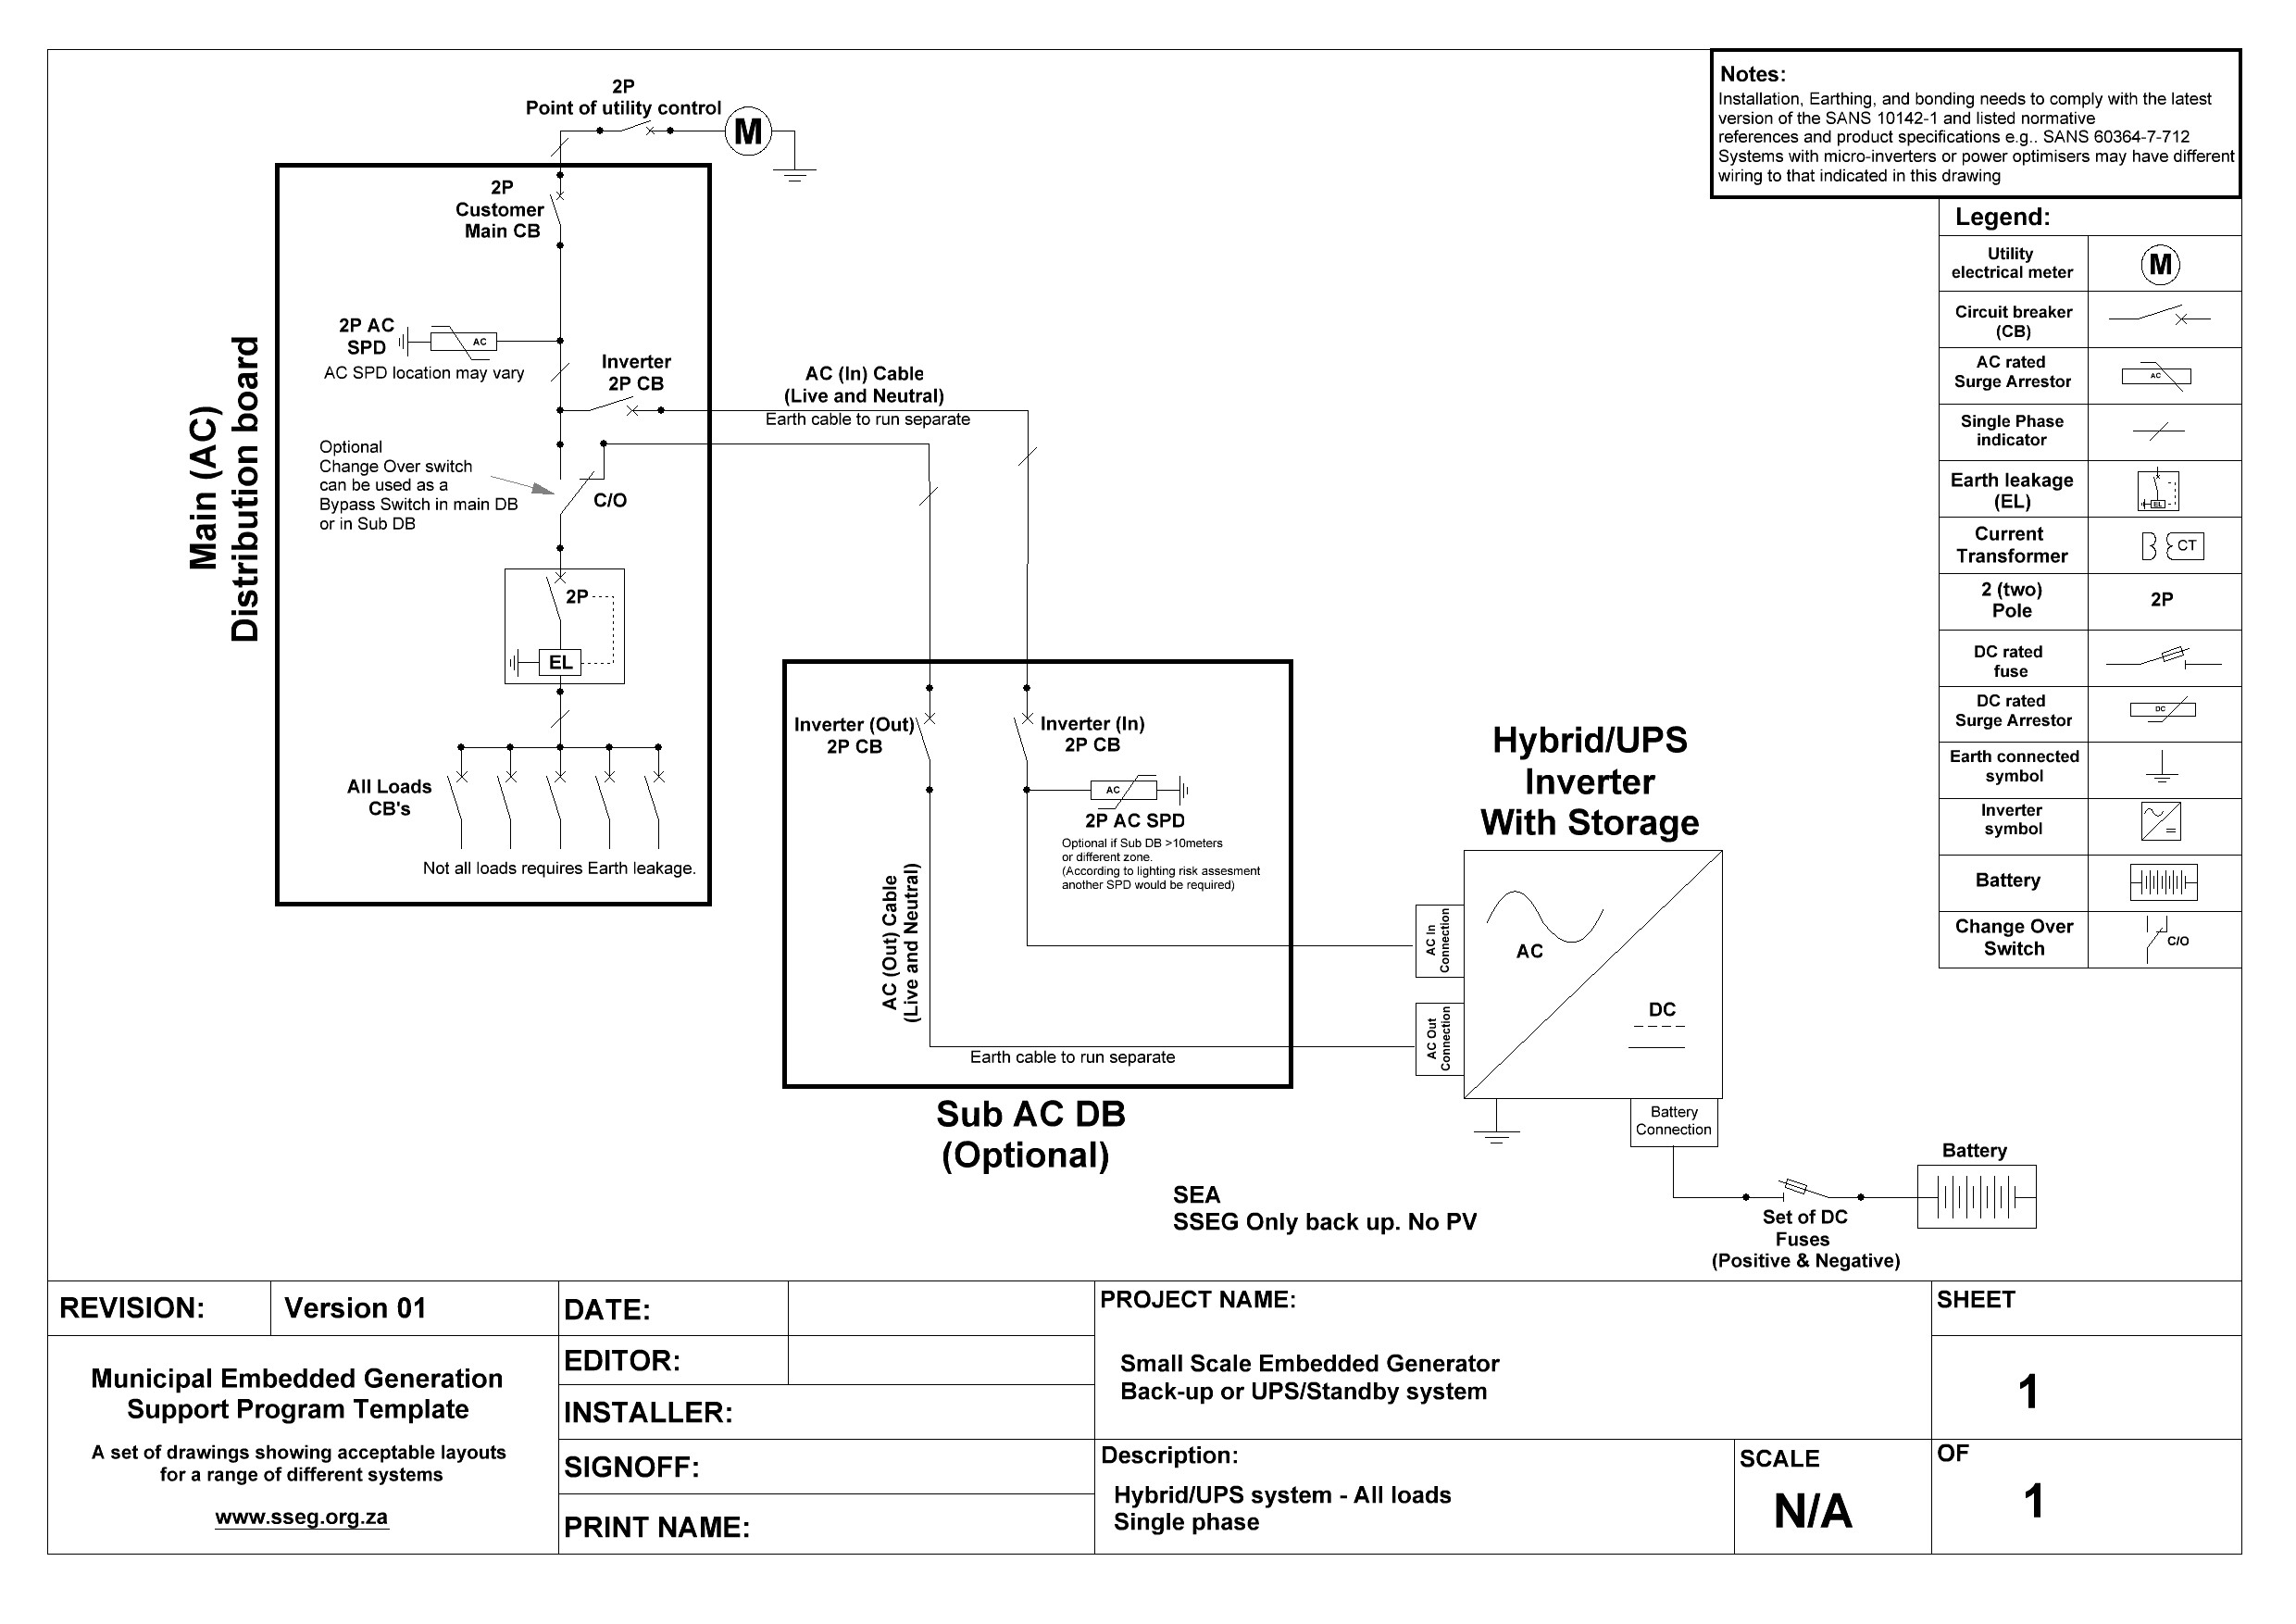fuse: (1737, 1162, 1881, 1214)
ground: (1451, 1111, 1532, 1162), (761, 151, 829, 211), (1161, 743, 1212, 823), (371, 304, 420, 378), (492, 638, 532, 687)
switch: (516, 457, 632, 547), (543, 385, 659, 434), (527, 169, 580, 269), (525, 559, 588, 622), (429, 761, 481, 833), (636, 759, 682, 835), (492, 758, 534, 838), (539, 756, 580, 837), (1001, 698, 1051, 763), (903, 698, 945, 772), (587, 758, 625, 833), (596, 118, 683, 149)
